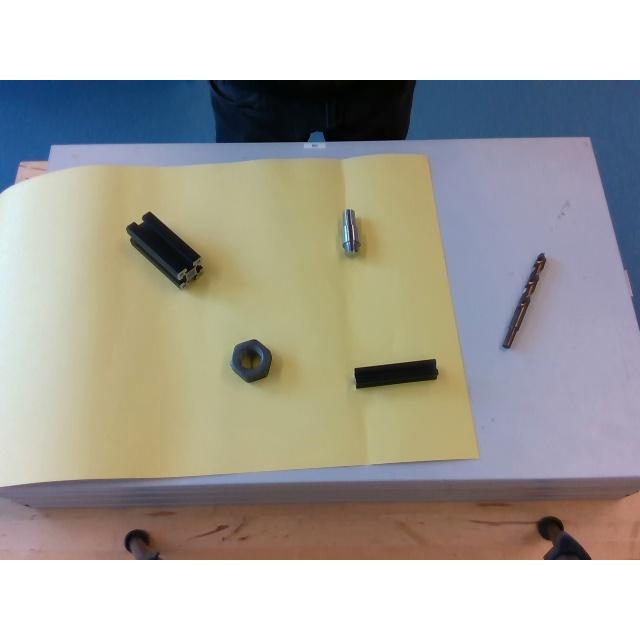Axis2: (341, 209, 359, 253)
Drill: (502, 252, 546, 346)
M30: (230, 340, 270, 380)
S40_40_B: (126, 211, 202, 287), (354, 358, 438, 387)
